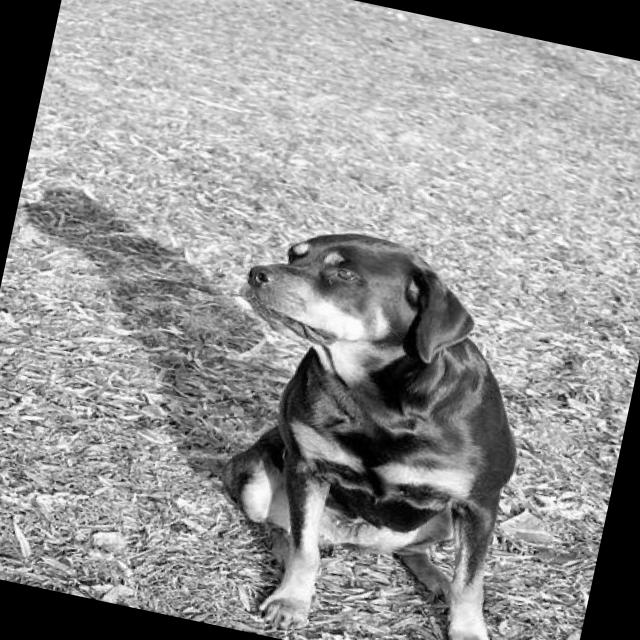sitting: (163, 201, 583, 640)
